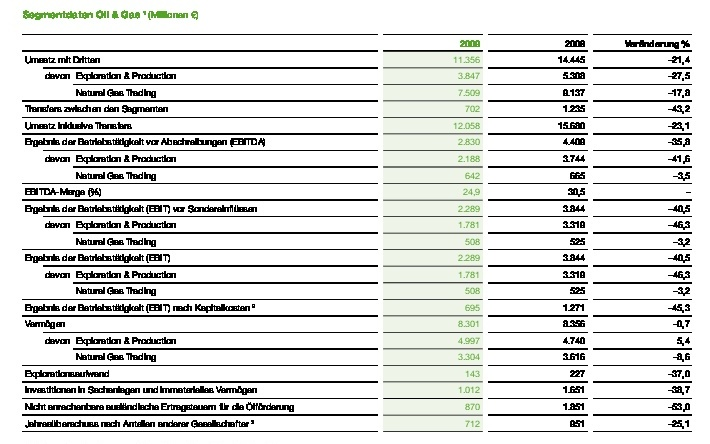table: (0, 0, 710, 444)
